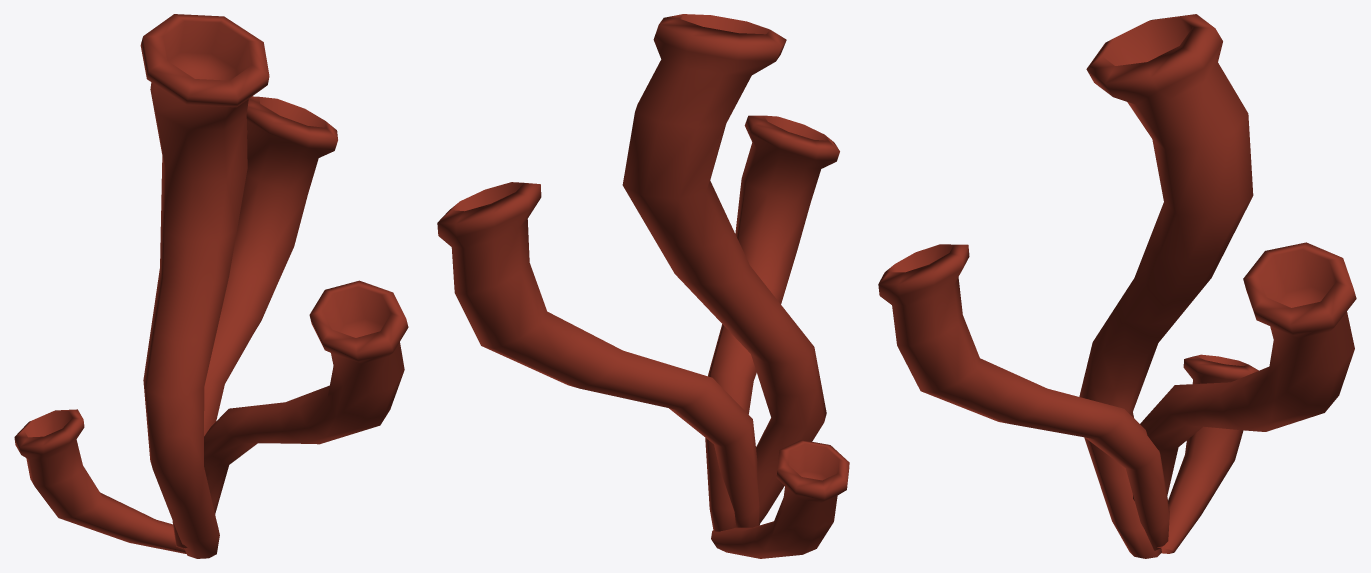
The model's file is coral4.fbx.
3 views of the same model, side by side, from view 1: azimuth 30°, elevation 25°; view 2: azimuth 150°, elevation 25°; view 3: azimuth 270°, elevation 25° (orthographic). The views are drawn at different scales.
Parts seen in each view (by area): view 1: node_id118; view 2: node_id118; view 3: node_id118.
Boxes of the visible parts, x1,y1,x2,y2 form: node_id118: (14,14,408,558); node_id118: (437,14,849,558); node_id118: (878,14,1356,558).
Bounding box in the file's own units: 0.3645 × 0.512 × 0.4166.
1 material, 1 textured.
